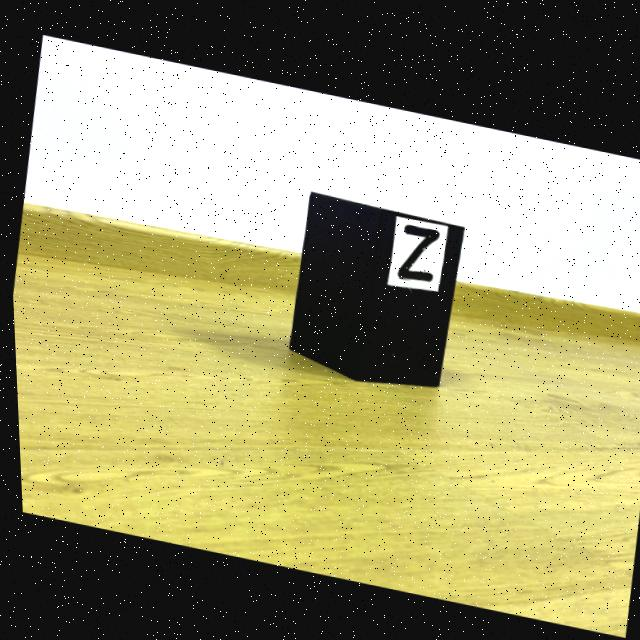Z: (395, 221, 438, 278)
